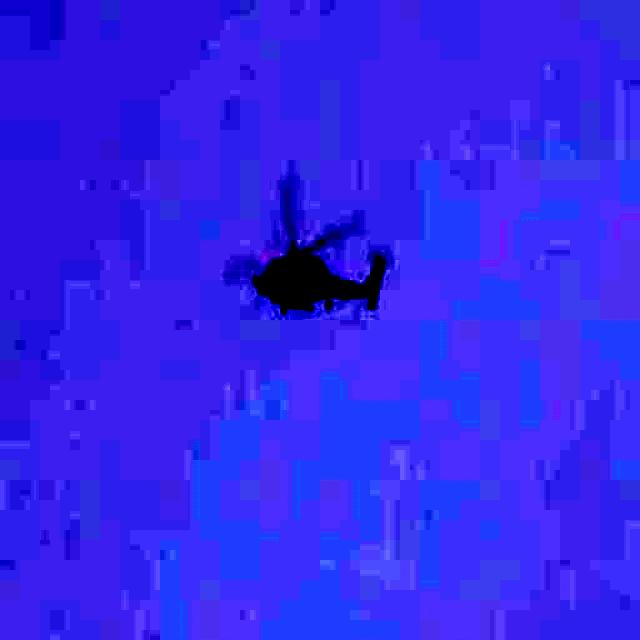drone: (230, 178, 400, 364)
